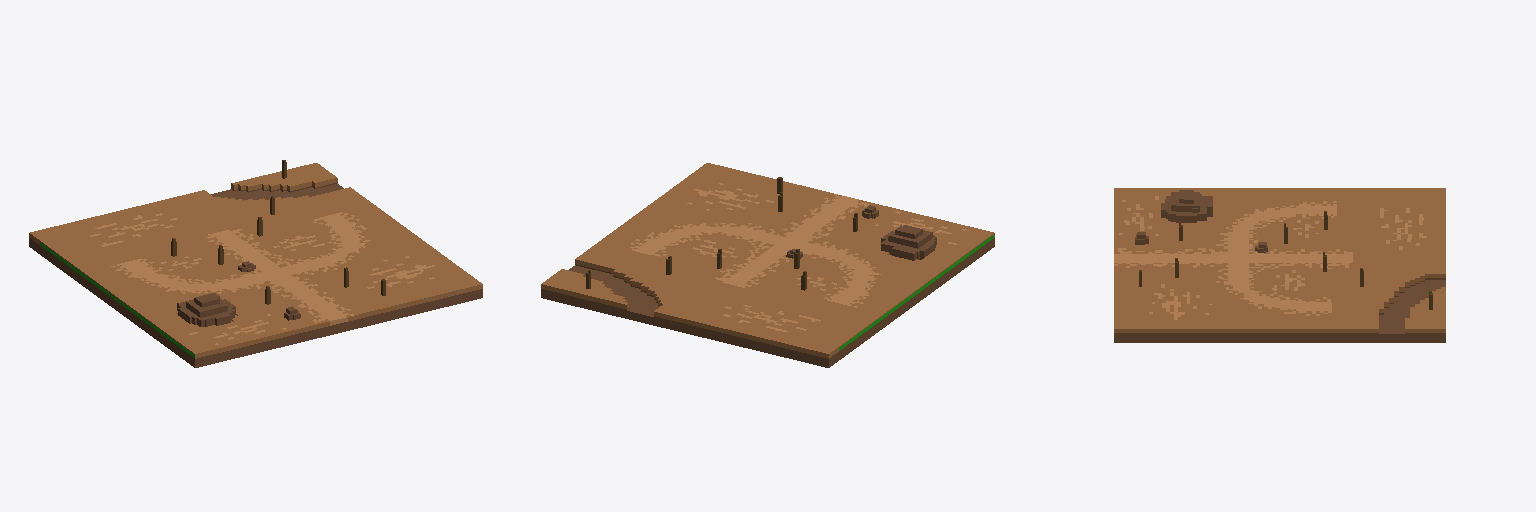
3 renders of one model, left to right at view 1: azimuth 30°, elevation 25°; view 2: azimuth 150°, elevation 25°; view 3: azimuth 270°, elevation 25°, orthographic.
Parts seen in each view (by area): view 1: object 1; view 2: object 1; view 3: object 1.
Part boxes in pixels (x1,y1,x2,y2): object 1: (29, 160, 482, 367); object 1: (541, 163, 994, 367); object 1: (1114, 188, 1445, 342).
Size of the model in its own units: 25.6 by 2.8 by 25.6.
1 materials, 1 textured.